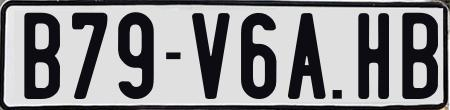6: (239, 10, 277, 100)
7: (70, 10, 110, 99)
9: (118, 12, 154, 103)
A: (288, 10, 328, 100)
B: (24, 13, 64, 100), (401, 10, 432, 98)
H: (355, 11, 388, 101)
V: (190, 12, 234, 101)
